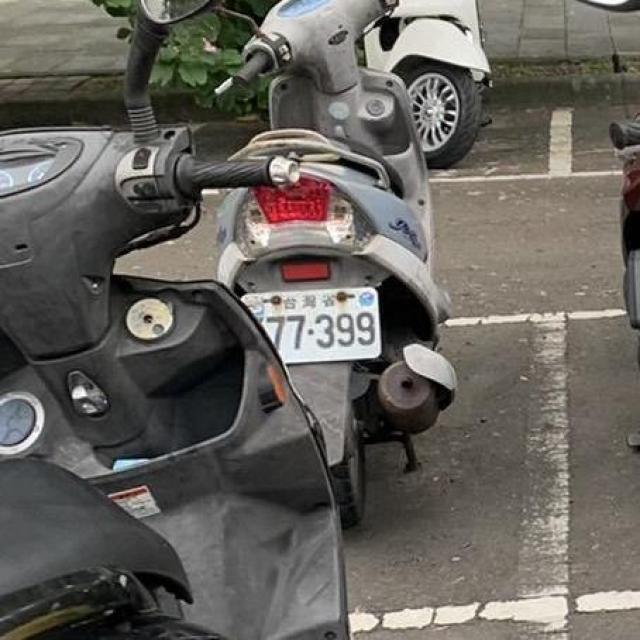W: (254, 282, 389, 368)
